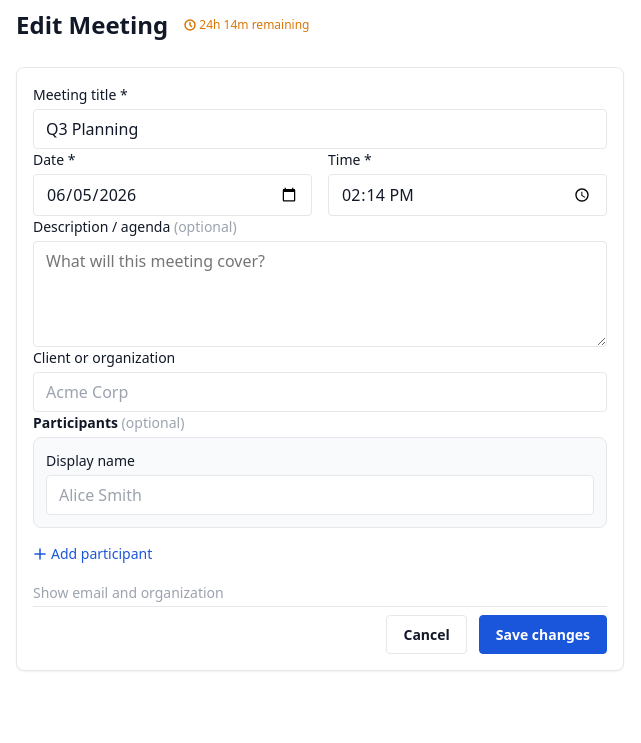
Test: EditPage — server validation errors (FR-15) › shows error alert when submission returns server errors
Note: Click submit
Click the button "Save changes": [543, 634] box [479,615,607,654]
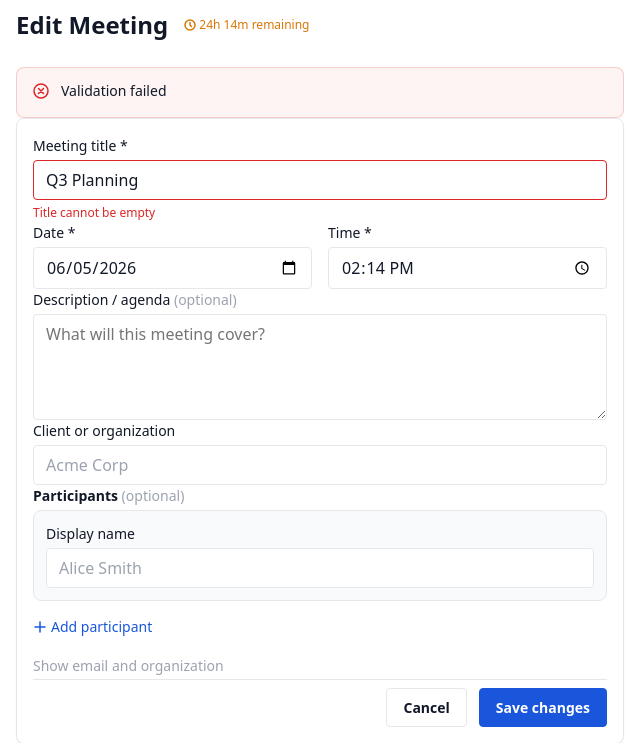
Now the message "Validation failed" is shown, box [16,67,624,118]
